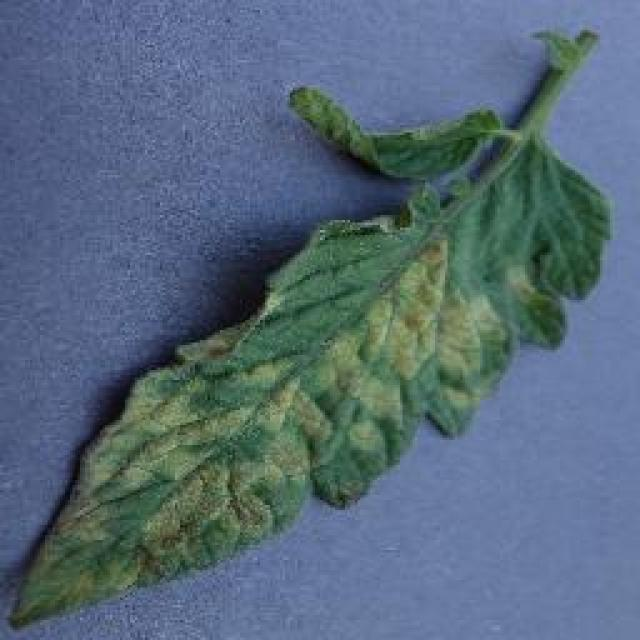leaf mold: (10, 25, 613, 624)
